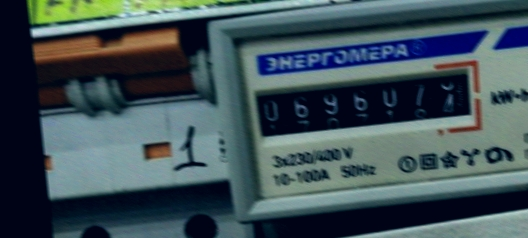0: (260, 94, 280, 119), (379, 79, 397, 105)
4: (438, 88, 456, 113)
6: (290, 90, 309, 116), (350, 83, 369, 109)
7: (409, 78, 427, 105)
9: (320, 87, 338, 113)
screen: (239, 50, 487, 149)
